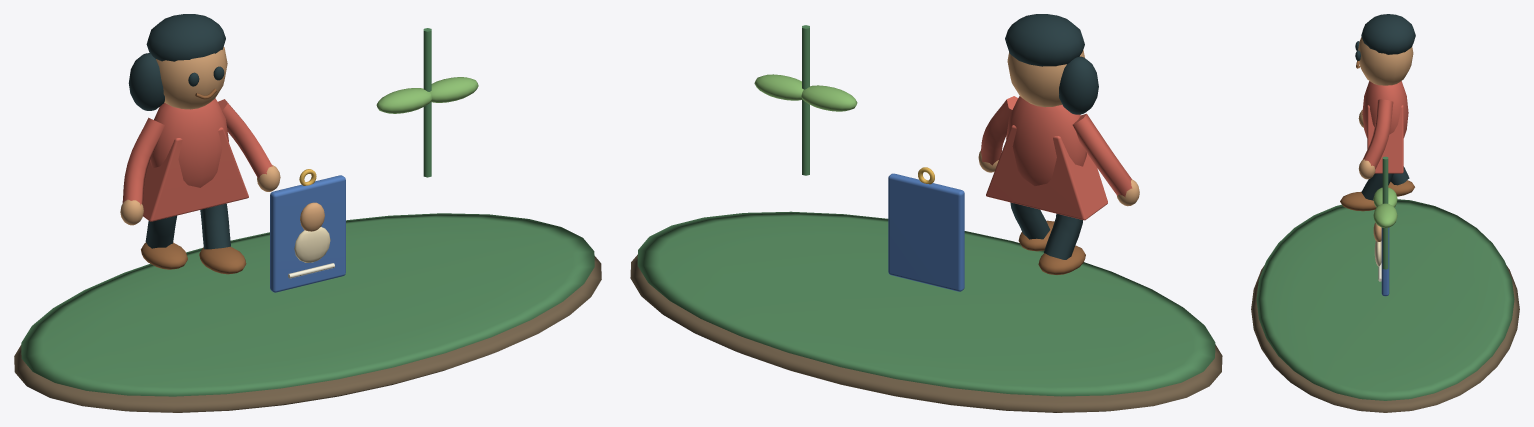
The model's file is complete-first-growing-family-name.glb.
3 views of the same model, side by side, from view 1: azimuth 30°, elevation 25°; view 2: azimuth 150°, elevation 25°; view 3: azimuth 270°, elevation 25° (orthographic). The views are drawn at different scales.
Parts seen in each view (by area): view 1: complete-first-growing-family-name_surface_01, complete-first-growing-family-name_surface_05, complete-first-growing-family-name_surface_00, complete-first-growing-family-name_surface_03, complete-first-growing-family-name_surface_07, complete-first-growing-family-name_surface_02, complete-first-growing-family-name_surface_06, complete-first-growing-family-name_surface_04, complete-first-growing-family-name_surface_08; view 2: complete-first-growing-family-name_surface_01, complete-first-growing-family-name_surface_05, complete-first-growing-family-name_surface_00, complete-first-growing-family-name_surface_07, complete-first-growing-family-name_surface_03, complete-first-growing-family-name_surface_02, complete-first-growing-family-name_surface_06, complete-first-growing-family-name_surface_04; view 3: complete-first-growing-family-name_surface_01, complete-first-growing-family-name_surface_00, complete-first-growing-family-name_surface_05, complete-first-growing-family-name_surface_03, complete-first-growing-family-name_surface_02, complete-first-growing-family-name_surface_04, complete-first-growing-family-name_surface_06, complete-first-growing-family-name_surface_07.
Boxes of the visible parts, x1,y1,x2,y2 form: complete-first-growing-family-name_surface_01: [21, 28, 594, 396]; complete-first-growing-family-name_surface_05: [122, 98, 272, 221]; complete-first-growing-family-name_surface_00: [14, 256, 601, 412]; complete-first-growing-family-name_surface_03: [128, 14, 230, 249]; complete-first-growing-family-name_surface_07: [270, 175, 345, 292]; complete-first-growing-family-name_surface_02: [120, 46, 324, 231]; complete-first-growing-family-name_surface_06: [376, 77, 478, 113]; complete-first-growing-family-name_surface_04: [141, 88, 246, 274]; complete-first-growing-family-name_surface_08: [294, 227, 330, 262]; complete-first-growing-family-name_surface_01: [637, 25, 1215, 396]; complete-first-growing-family-name_surface_05: [980, 96, 1132, 220]; complete-first-growing-family-name_surface_00: [630, 254, 1222, 412]; complete-first-growing-family-name_surface_07: [888, 173, 964, 291]; complete-first-growing-family-name_surface_03: [1005, 14, 1098, 259]; complete-first-growing-family-name_surface_02: [978, 50, 1139, 206]; complete-first-growing-family-name_surface_06: [754, 74, 857, 111]; complete-first-growing-family-name_surface_04: [1018, 220, 1085, 274]; complete-first-growing-family-name_surface_01: [1256, 156, 1514, 400]; complete-first-growing-family-name_surface_00: [1251, 265, 1519, 412]; complete-first-growing-family-name_surface_05: [1362, 81, 1408, 173]; complete-first-growing-family-name_surface_03: [1355, 14, 1415, 200]; complete-first-growing-family-name_surface_02: [1358, 37, 1413, 241]; complete-first-growing-family-name_surface_04: [1340, 61, 1414, 211]; complete-first-growing-family-name_surface_06: [1373, 187, 1397, 227]; complete-first-growing-family-name_surface_07: [1381, 227, 1389, 296].
Size of the model in its own units: 4.56 by 2.67 by 2.5.
